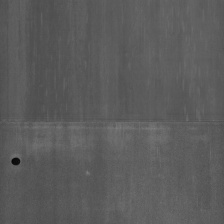punching_hole: (0, 115, 222, 130), (10, 154, 21, 169)
